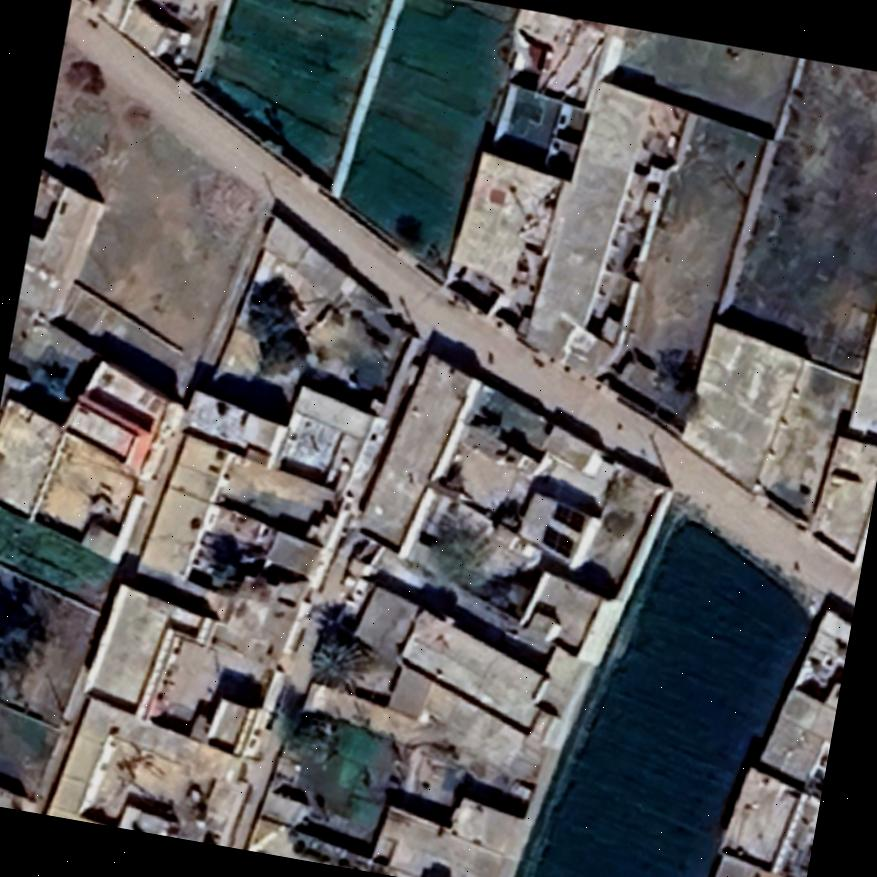Solarpanel: (545, 494, 592, 536), (534, 518, 580, 560)
